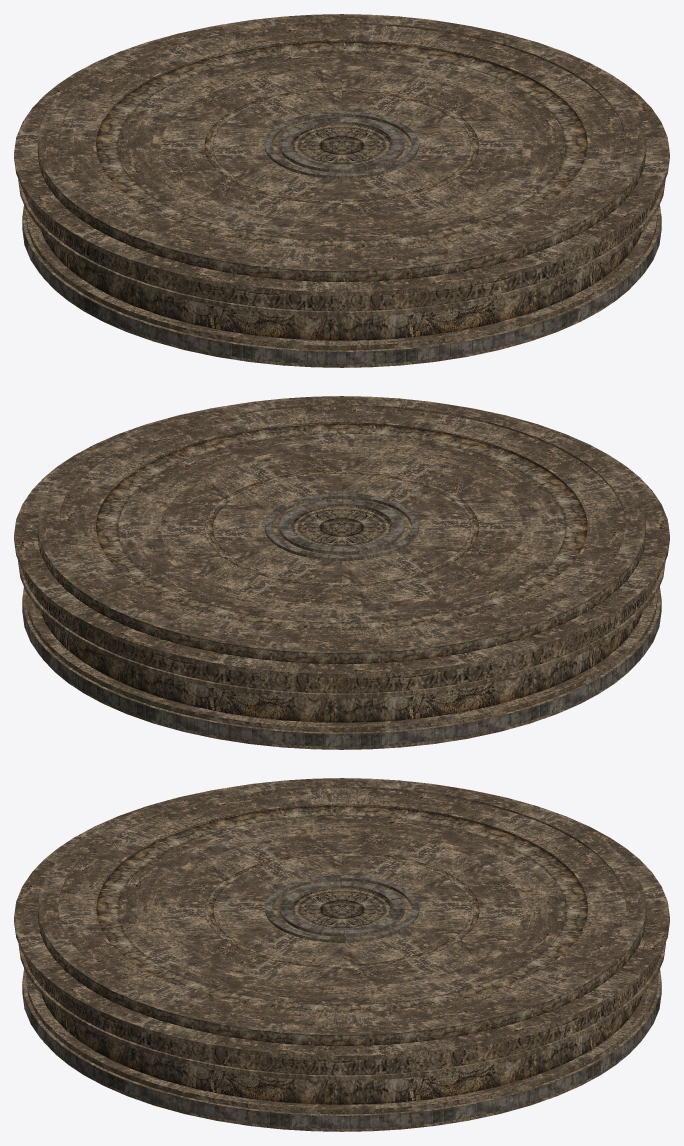
File: materials_5_roof_5.fbx
3 views of the same model, one above another, from view 1: azimuth 30°, elevation 25°; view 2: azimuth 150°, elevation 25°; view 3: azimuth 270°, elevation 25° (orthographic).
Parts seen in each view (by area): view 1: materials_5_roof_5; view 2: materials_5_roof_5; view 3: materials_5_roof_5.
Boxes of the visible parts, x1,y1,x2,y2 form: materials_5_roof_5: (14,14,669,367); materials_5_roof_5: (14,396,669,749); materials_5_roof_5: (14,778,669,1131).
Size of the model in its own units: 638 by 100 by 638.
